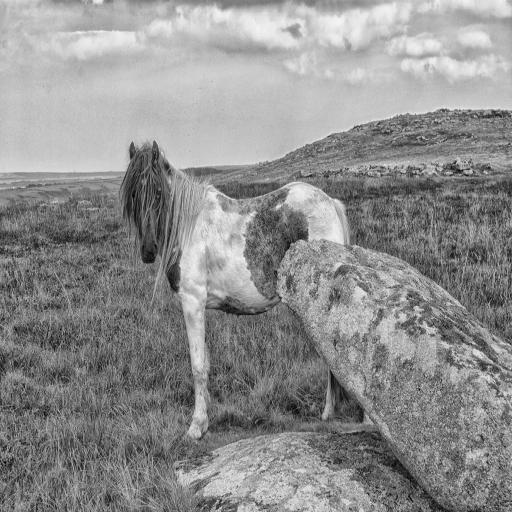horse: (120, 138, 354, 442)
